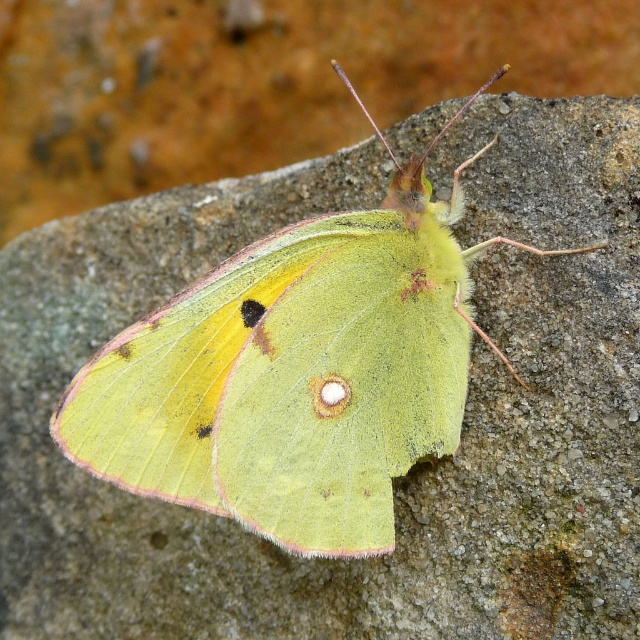Butterfly: (53, 83, 482, 590)
